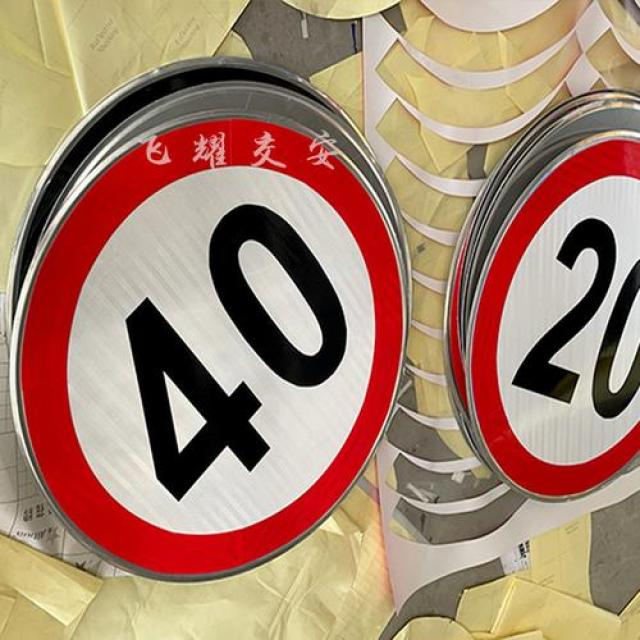speed limit 20: (466, 129, 640, 508)
speed limit 40: (3, 82, 406, 584)
